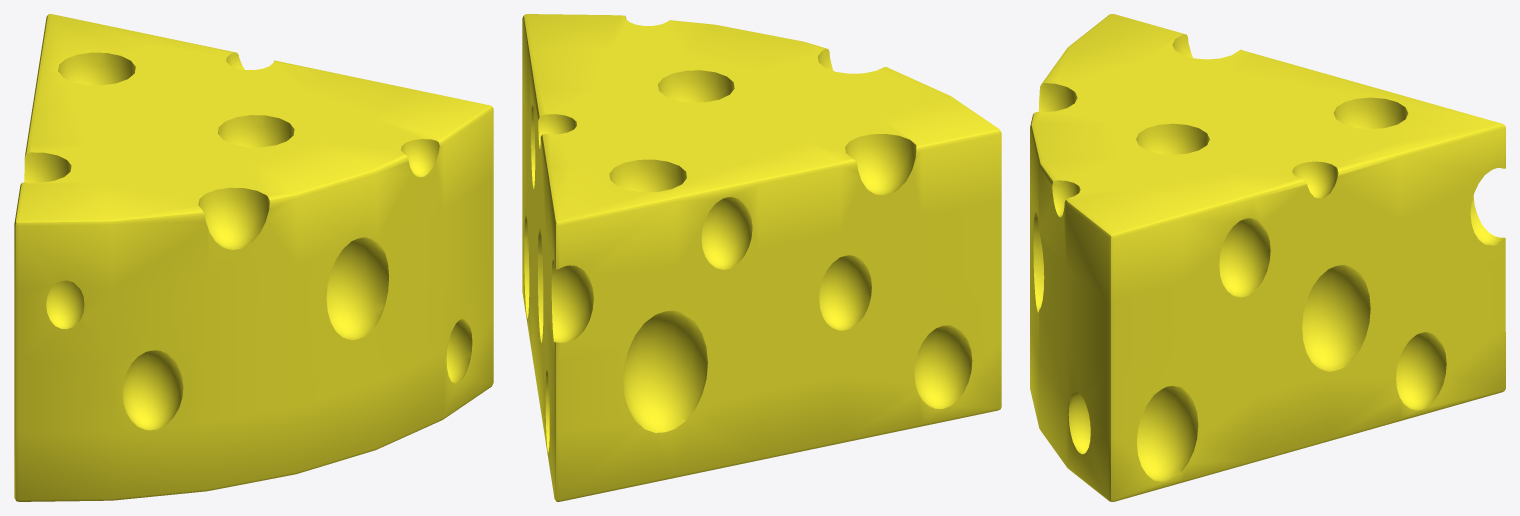
File: cheese.fbx
3 views of the same model, side by side, from view 1: azimuth 30°, elevation 25°; view 2: azimuth 150°, elevation 25°; view 3: azimuth 270°, elevation 25° (orthographic). The views are drawn at different scales.
Parts seen in each view (by area): view 1: Circle; view 2: Circle; view 3: Circle.
Boxes of the visible parts, bbox=[...] form: Circle: bbox=[14, 14, 493, 501]; Circle: bbox=[522, 14, 1001, 501]; Circle: bbox=[1030, 14, 1505, 501].
Size of the model in its own units: 153 by 85.91 by 138.
